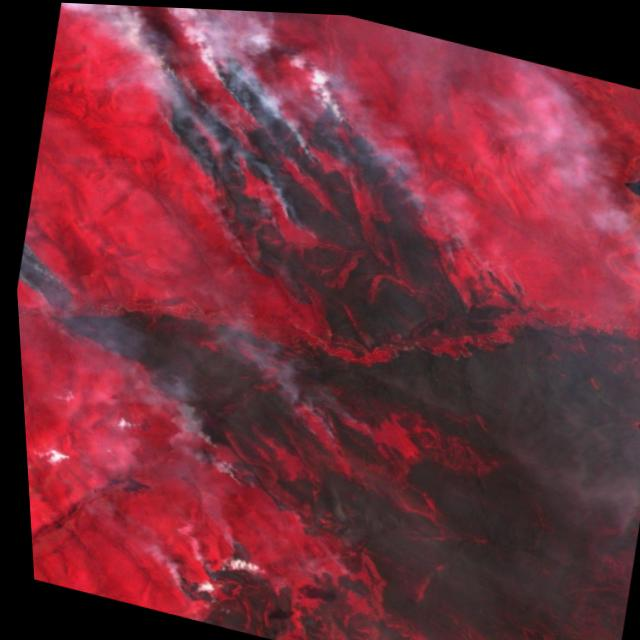fire: (97, 21, 567, 360), (123, 332, 401, 640), (11, 237, 88, 329)
